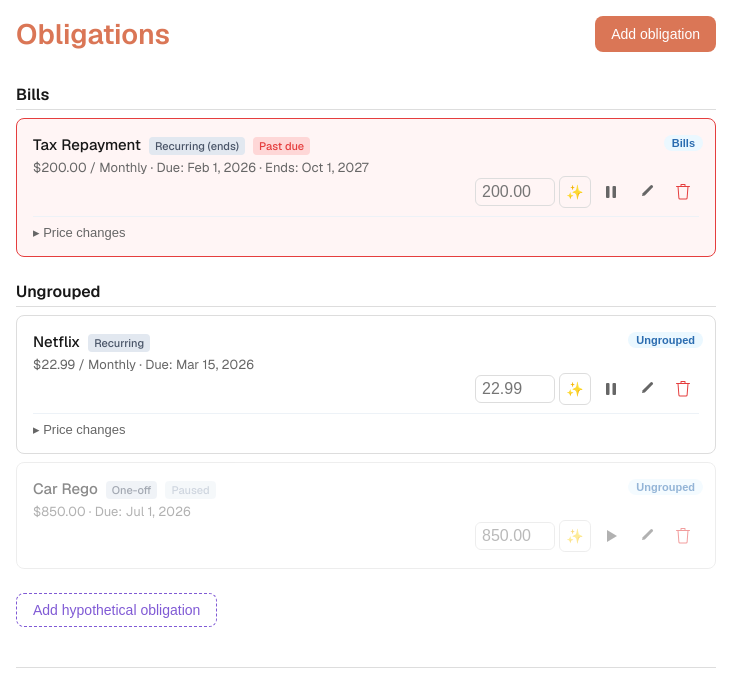
Test: ObligationsPage › shows applied badge for applied escalation rules
expect the text "Netflix" is shown: met, box left=33, top=332, right=80, bottom=351
What coordinates should you click on to do the following:
click the button with aria-label "Toggle escalation rules for Netflix"
I would click on:
 (79, 430)
Its box is left=33, top=422, right=126, bottom=437.
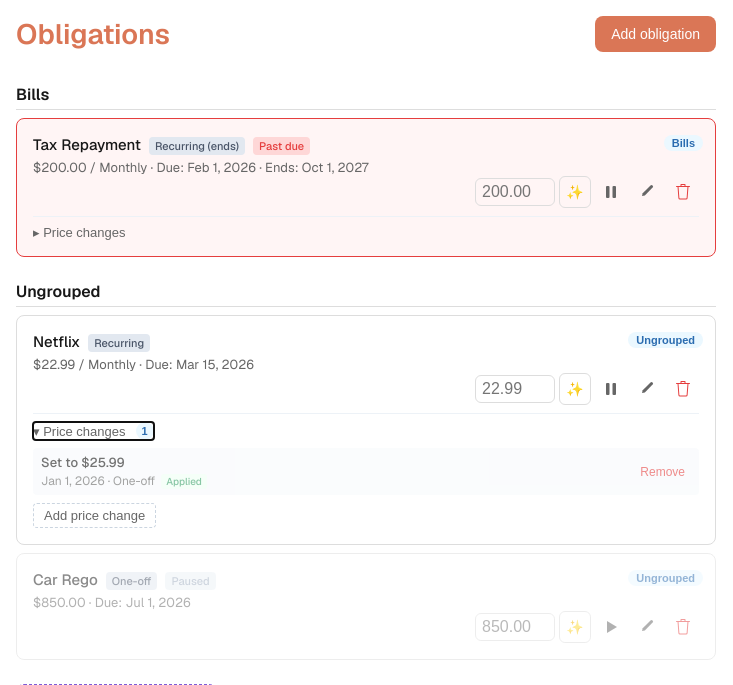
expect the text "Applied" is shown: met, box left=161, top=474, right=207, bottom=489
